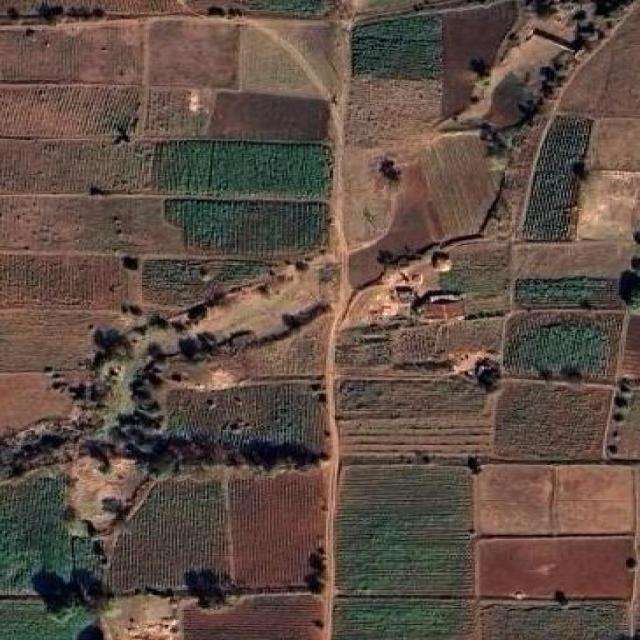land-Sx1C: (337, 466, 472, 597), (110, 480, 228, 592), (349, 164, 445, 288), (0, 476, 100, 595), (230, 470, 324, 588), (0, 195, 186, 253), (168, 382, 324, 451), (158, 140, 330, 197), (477, 536, 630, 599), (494, 380, 612, 461), (440, 0, 517, 116), (523, 115, 593, 241), (558, 8, 638, 117), (2, 22, 142, 83), (421, 131, 500, 239), (503, 311, 622, 382), (0, 139, 156, 193), (167, 201, 323, 253), (238, 20, 335, 99), (0, 309, 121, 372), (2, 87, 140, 138), (2, 254, 128, 308), (182, 594, 323, 640), (347, 77, 441, 146), (390, 315, 502, 371), (349, 75, 441, 142), (149, 20, 238, 87), (479, 600, 628, 640), (144, 259, 274, 304), (352, 15, 442, 79), (334, 599, 472, 640), (342, 379, 486, 418), (242, 315, 329, 379), (344, 148, 400, 247), (475, 465, 554, 535), (211, 92, 328, 139), (556, 465, 635, 533), (353, 14, 442, 73), (342, 419, 487, 455), (0, 372, 72, 436), (512, 240, 633, 278), (577, 170, 640, 239), (0, 0, 192, 21), (445, 241, 509, 297), (0, 600, 88, 640), (516, 276, 622, 308), (144, 88, 205, 137), (606, 377, 640, 461), (333, 324, 386, 374), (591, 119, 640, 171)
